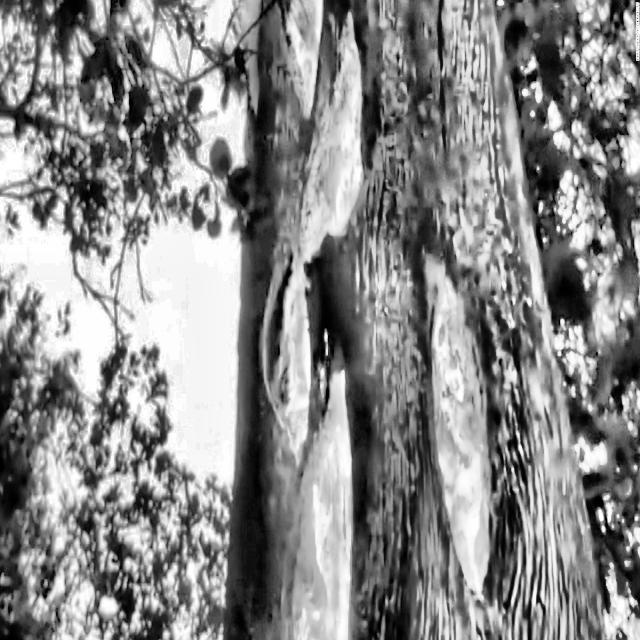fire: (427, 274, 537, 626), (290, 356, 381, 640), (256, 217, 318, 460), (338, 11, 378, 280), (267, 6, 340, 129), (277, 0, 322, 105)
